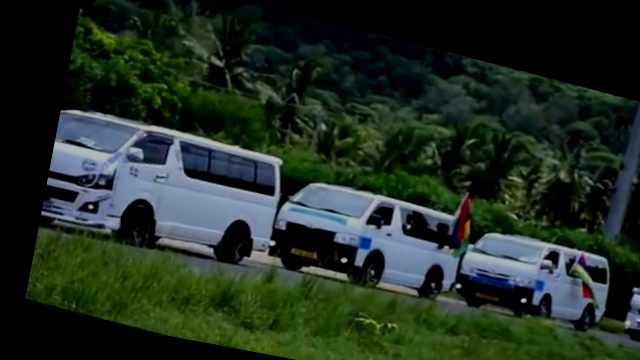van: (36, 96, 289, 282), (258, 162, 481, 306), (450, 215, 622, 332)
